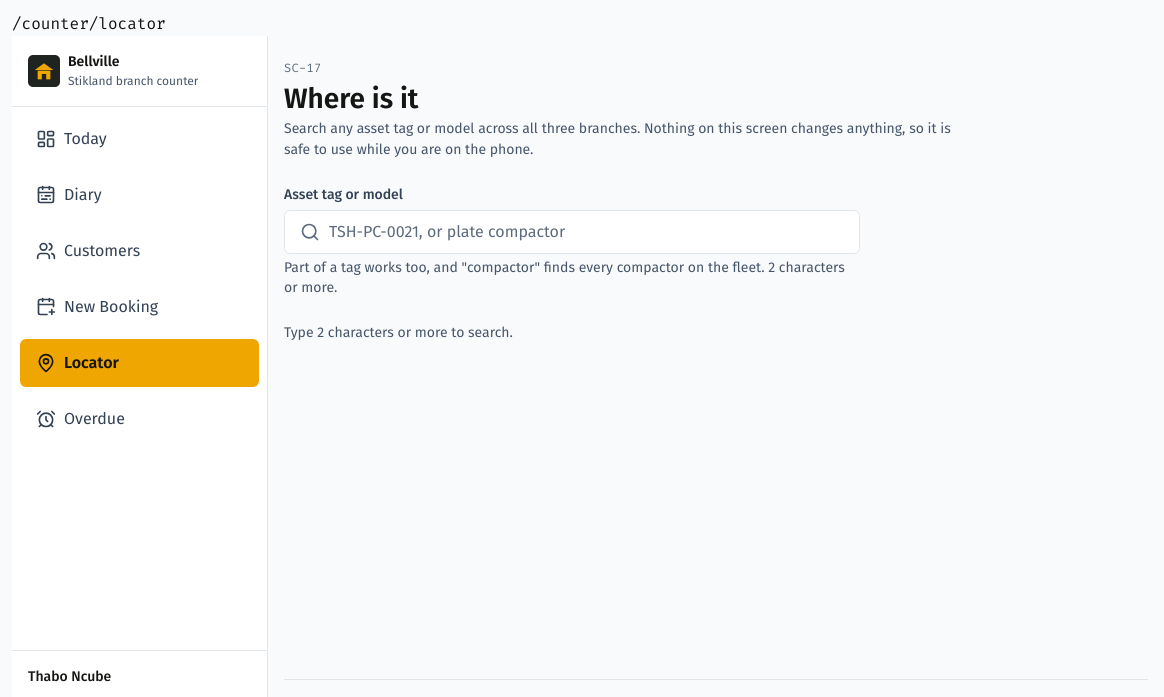
Test: when the search fails › says so with the reference, and searches again on a retry
The image size is (1164, 697).
Type "TSH" into the search field labelled "Asset tag or model". click: (572, 232)
box: [284,210,860,254]
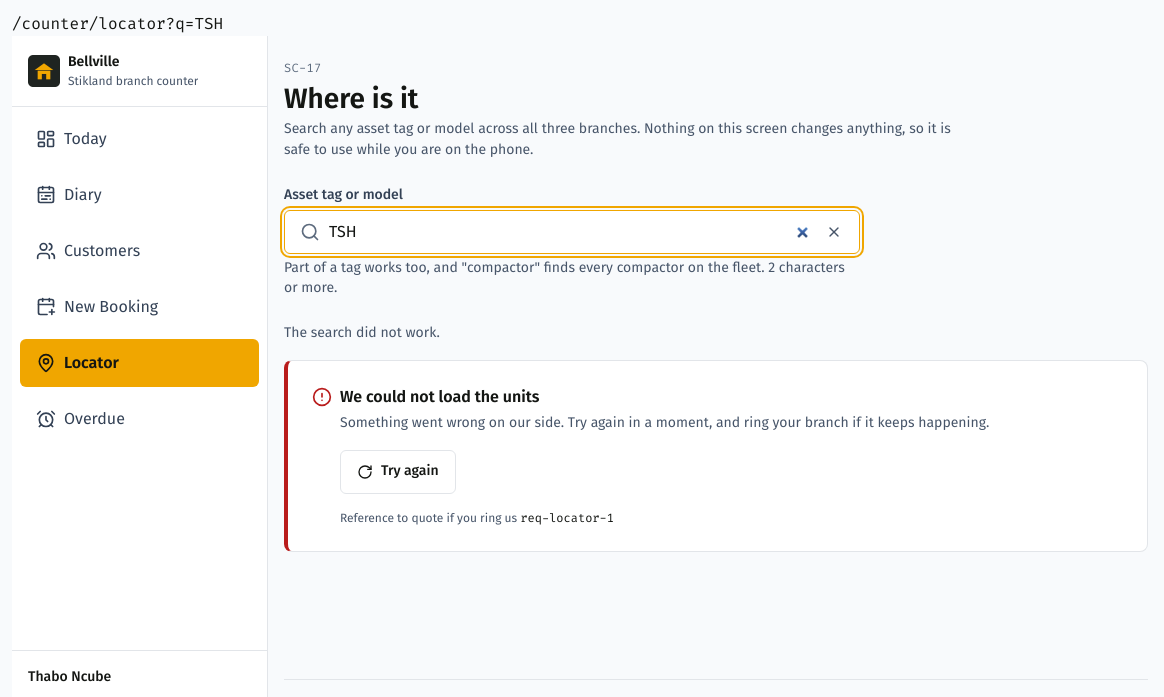
Now the message that starts with "We could not load the units" is shown, box [340,387,540,406]
Now the text "req-locator-1" is shown, box [520,510,614,526]
Click the button "Try again". click: (398, 472)
box: [340,450,456,494]
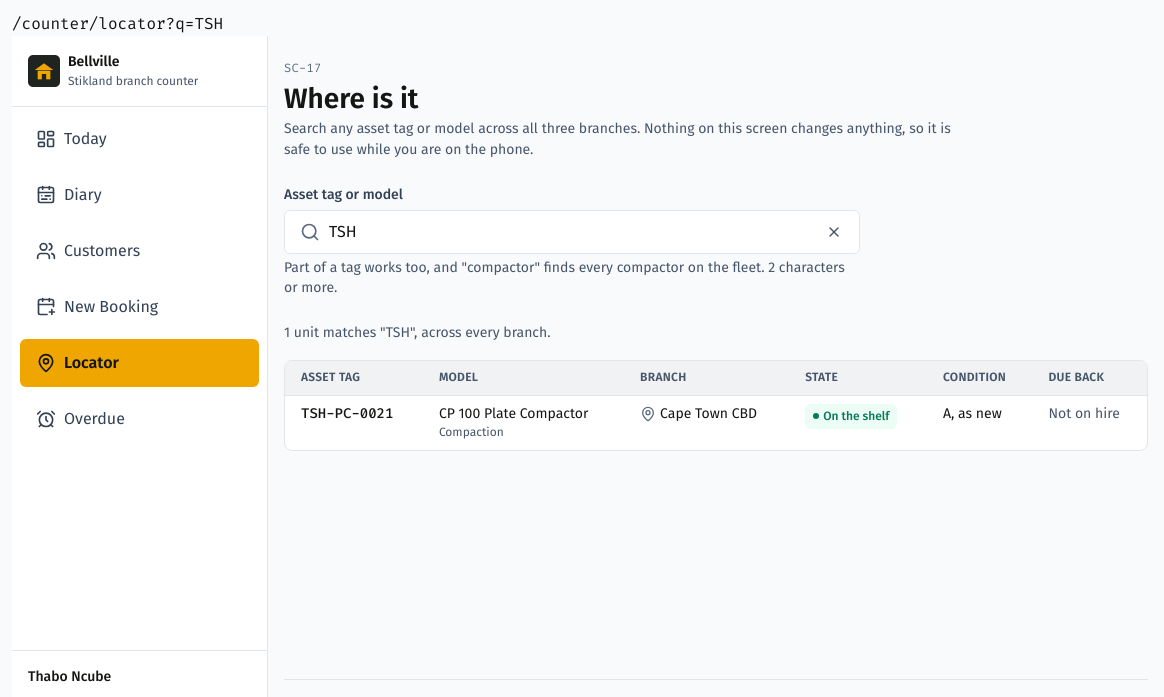
Now the row "TSH-PC-0021" is shown, box [285,396,1147,450]
